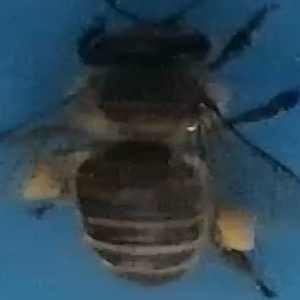bee: (20, 3, 288, 294)
